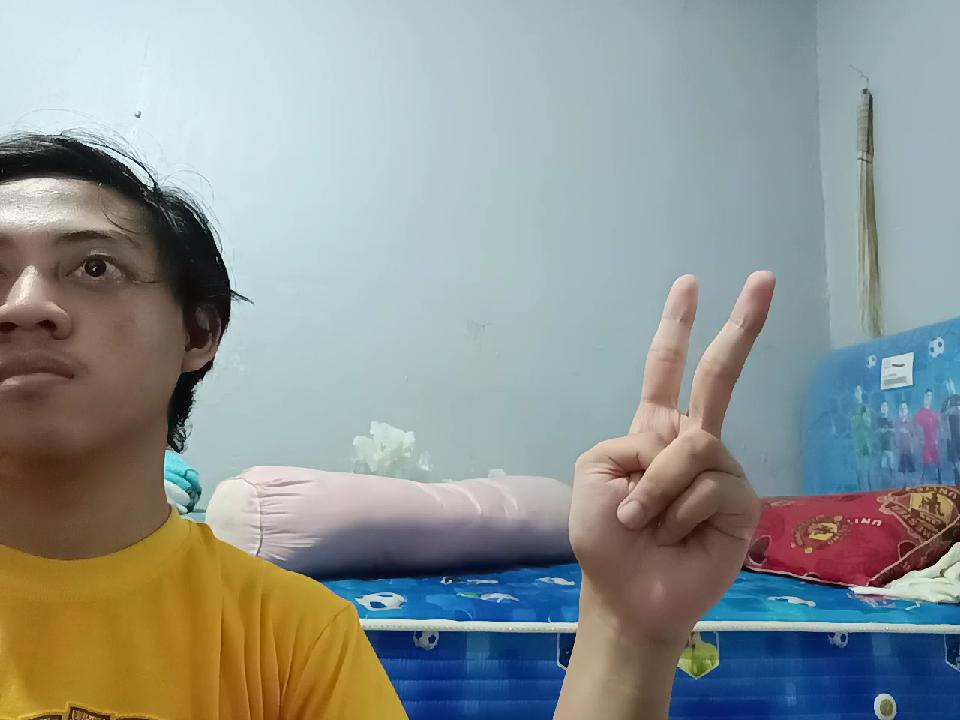scissors: (536, 267, 804, 640)
